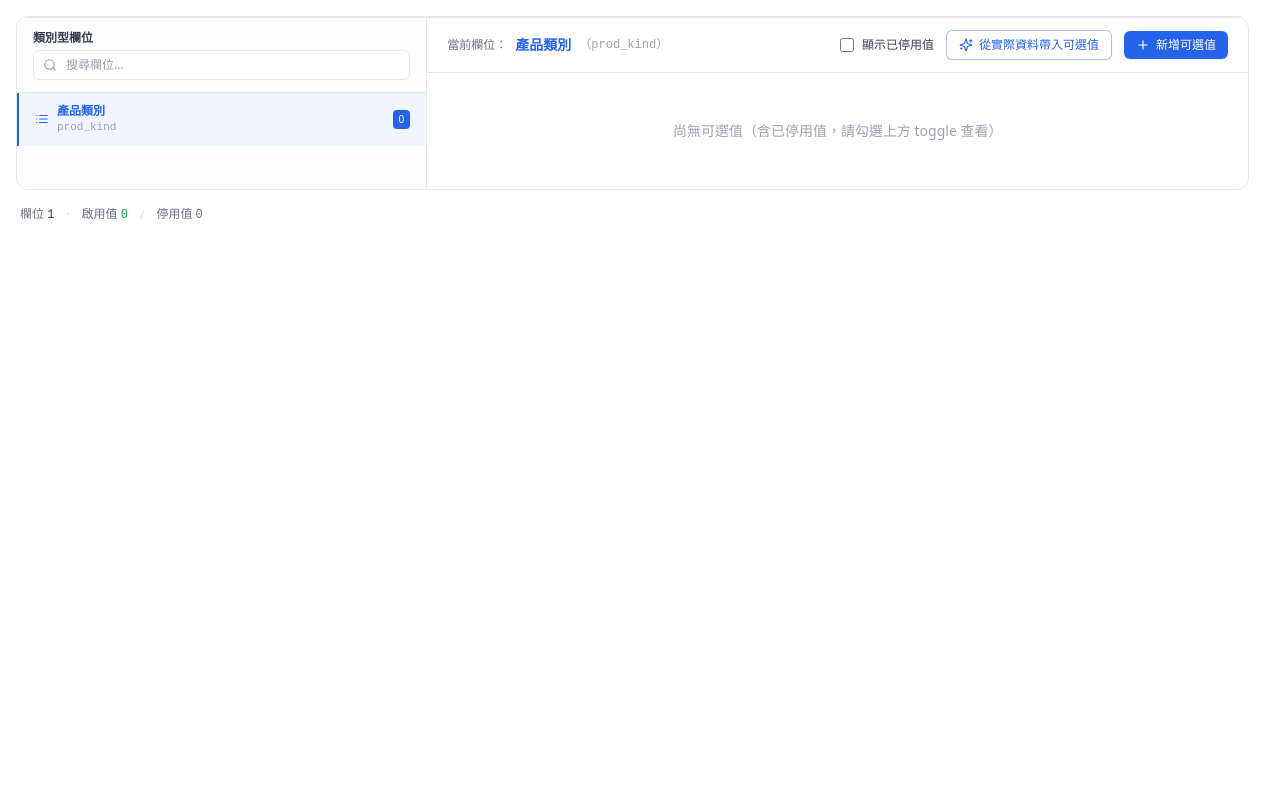
Test case: F112 OptionsTab 進入點 2 — 批次帶入按鈕 + Modal（FE2） › FE2-006：確認新增 → createOptionsBulk（僅勾選值）→ 成功後 listOptions 刷新 + 結果 toast
The image size is (1280, 800).
Click the button with test id "btn-import-options-prod_kind" at (1029, 45), box [946, 30, 1112, 60]
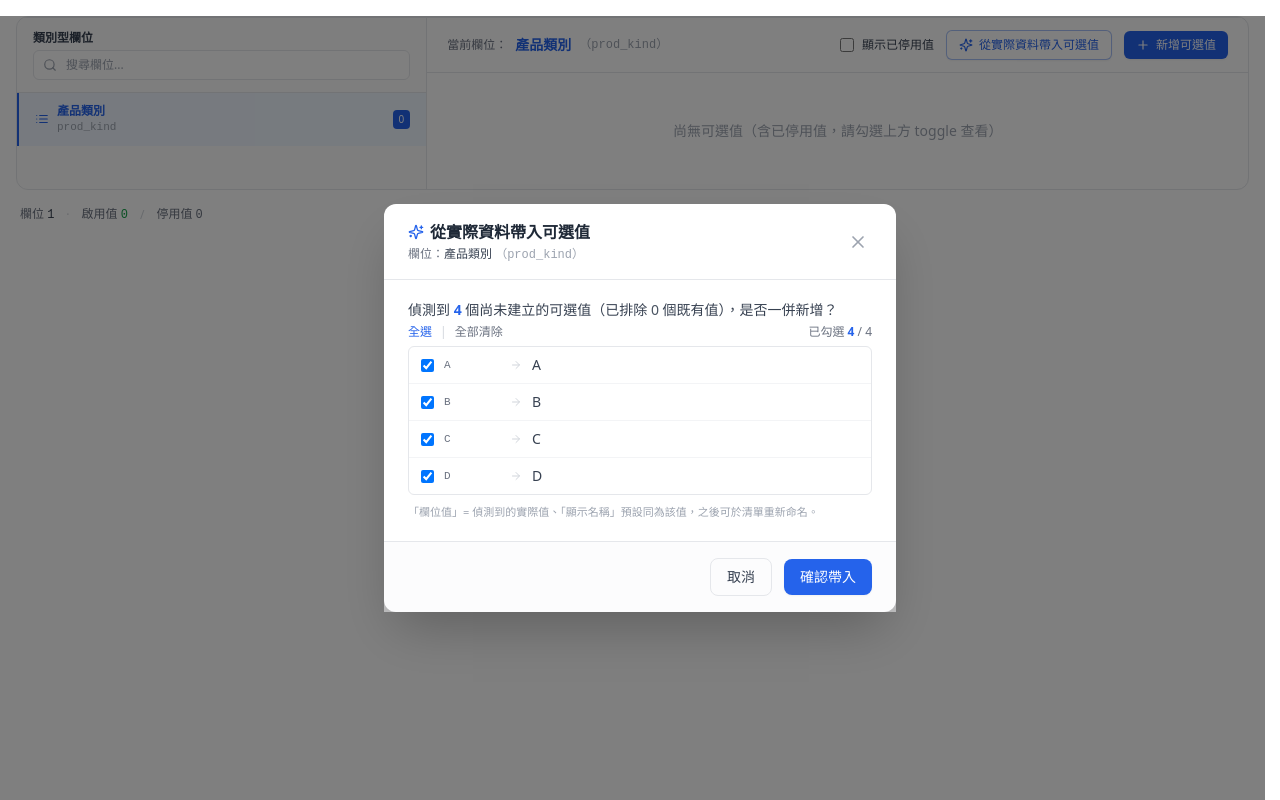
expect the element with test id "bi-ready" is shown: met, box [408, 300, 872, 521]
expect the text with test id "bi-sel-count" reads "4": met, box [848, 323, 854, 340]
Click the button with test id "btn-confirm-bulk-import" at (828, 577), box [784, 559, 872, 595]
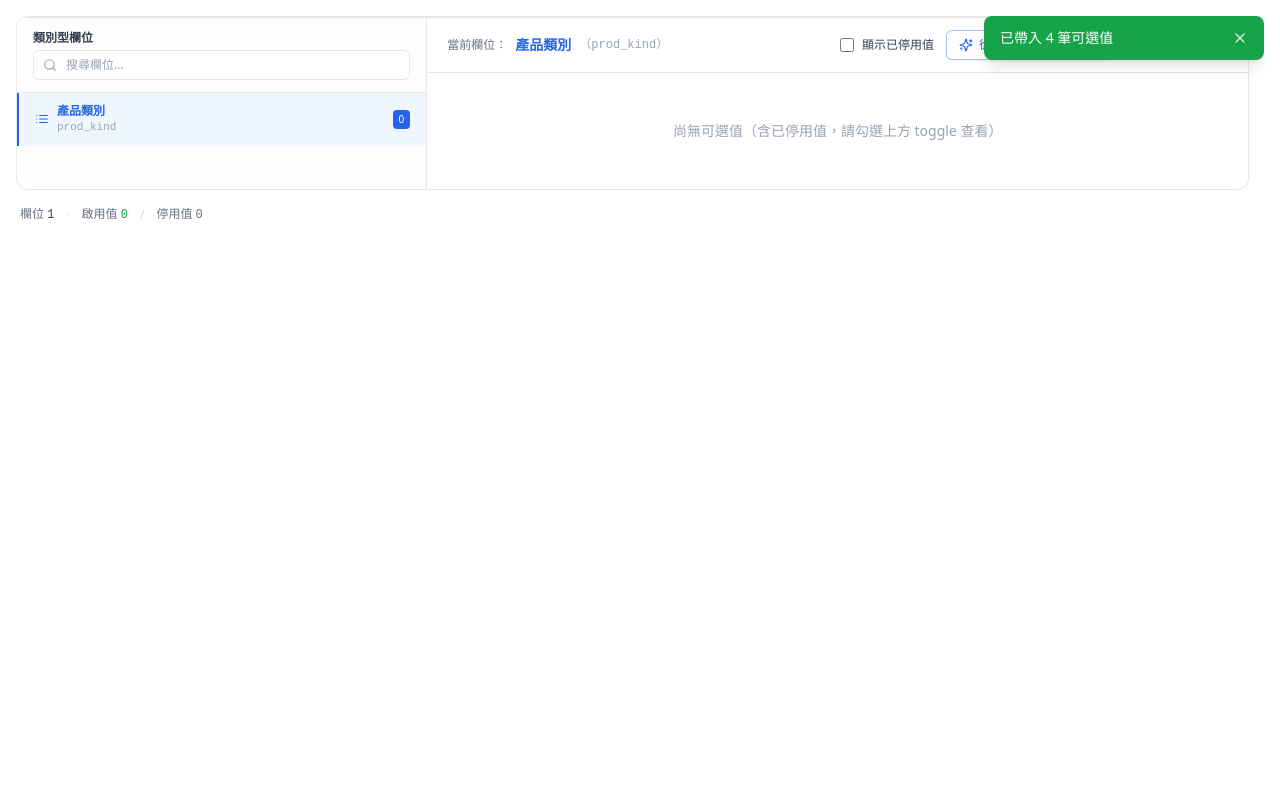
expect the text "已帶入 4 筆可選值" is shown: met, box [1000, 28, 1113, 47]
expect the element with test id "bulk-import-modal" is gone: met
